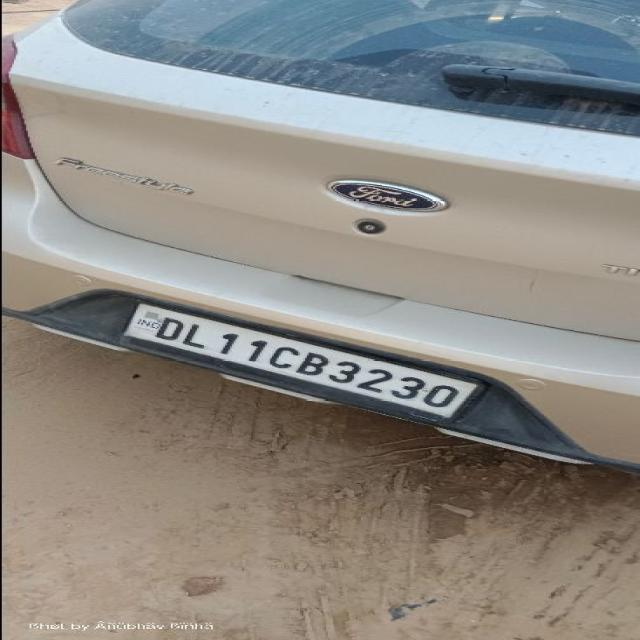license_plate: (5, 286, 626, 473), (117, 300, 488, 424)
